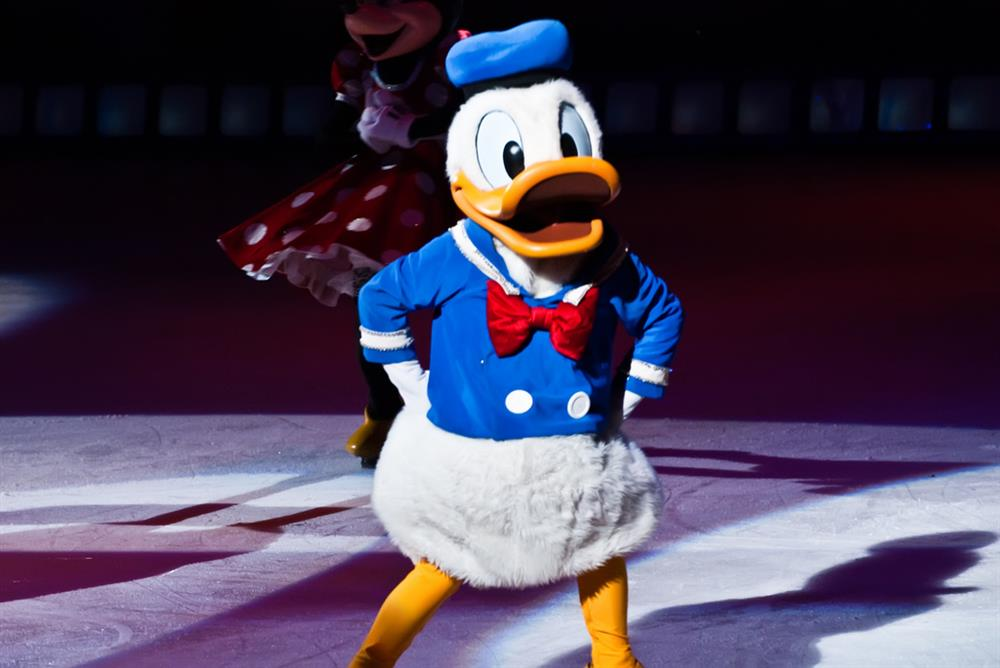Donald_Duck: (354, 23, 683, 658)
